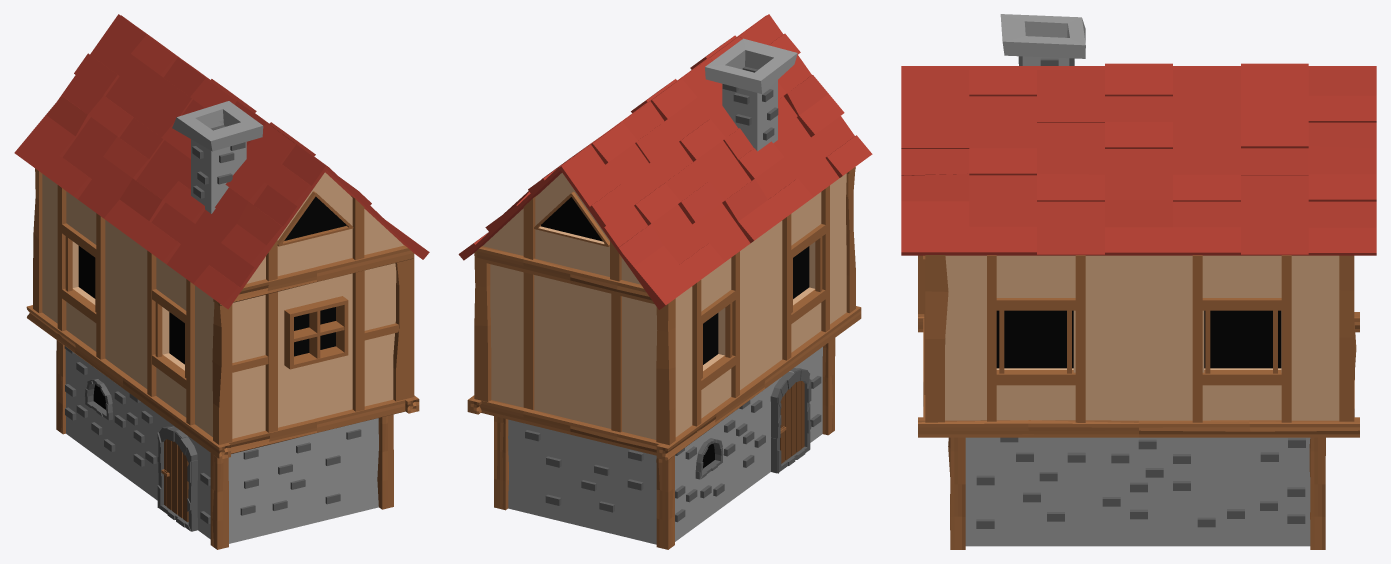
File: house medieval.glb
The picture shows the model from 3 angles, left to right: view 1: azimuth 30°, elevation 25°; view 2: azimuth 150°, elevation 25°; view 3: azimuth 270°, elevation 25°; orthographic projection. The views are drawn at different scales.
Parts seen in each view (by area): view 1: TopFloor-col, Roof-col, Karkas-col, LowerFloor-col, Chimney-col, Bricks, Door-col; view 2: TopFloor-col, Roof-col, Karkas-col, LowerFloor-col, Chimney-col, Bricks, Door-col; view 3: Roof-col, TopFloor-col, LowerFloor-col, Karkas-col, Bricks, Chimney-col.
Part boxes in pixels (box(x1,y1,x2,y2)): TopFloor-col: box(42, 172, 404, 438); Roof-col: box(14, 14, 429, 309); Karkas-col: box(26, 168, 419, 549); LowerFloor-col: box(65, 349, 378, 543); Chimney-col: box(172, 101, 263, 213); Bricks: box(64, 125, 361, 524); Door-col: box(164, 439, 188, 522); TopFloor-col: box(483, 173, 846, 439); Roof-col: box(458, 14, 872, 309); Karkas-col: box(467, 167, 861, 549); LowerFloor-col: box(508, 347, 822, 544); Chimney-col: box(705, 38, 797, 151); Bricks: box(525, 66, 821, 522); Door-col: box(780, 381, 804, 463); Roof-col: box(901, 63, 1376, 255); TopFloor-col: box(918, 255, 1339, 420); LowerFloor-col: box(965, 437, 1310, 546); Karkas-col: box(918, 255, 1359, 549); Bricks: box(976, 56, 1305, 528); Chimney-col: box(1000, 14, 1085, 65).
Size of the model in its own units: 7.62 by 13.67 by 13.14.
